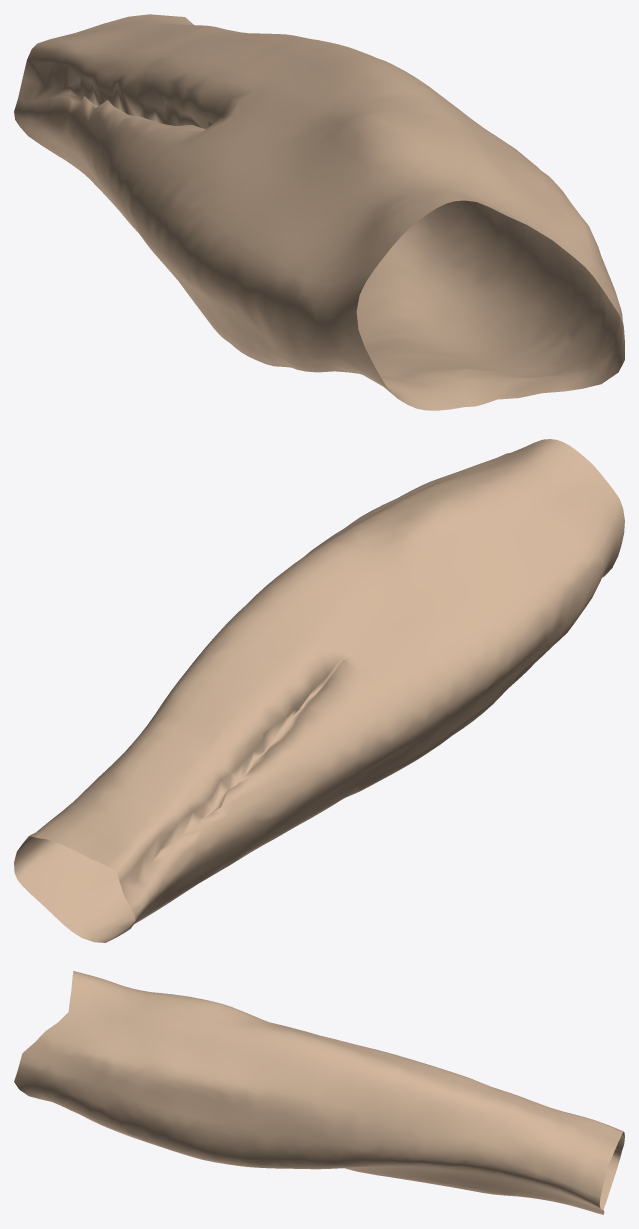
3 views of the same model, one above another, from view 1: azimuth 30°, elevation 25°; view 2: azimuth 150°, elevation 25°; view 3: azimuth 270°, elevation 25° (orthographic). The views are drawn at different scales.
Visible parts, largest first — view 1: 左侧前臂筋膜; view 2: 左侧前臂筋膜; view 3: 左侧前臂筋膜.
Boxes of the visible parts, x1,y1,x2,y2 form: 左侧前臂筋膜: (14,14,624,410); 左侧前臂筋膜: (14,439,624,942); 左侧前臂筋膜: (14,971,624,1214).
Size of the model in its own units: 0.1549 by 0.151 by 0.4216.
